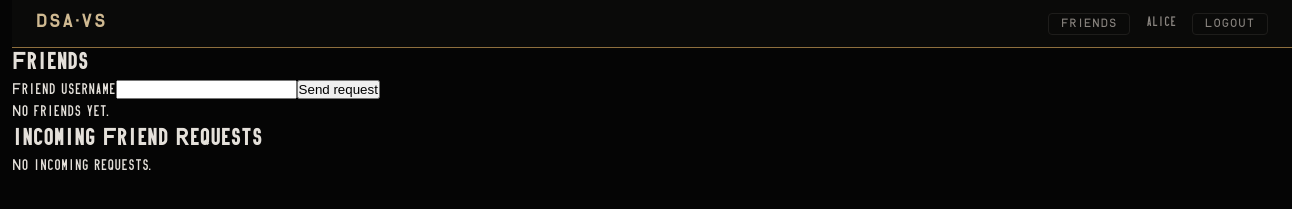
Scenario: friends › sends friend request
The width and height of the screenshot is (1292, 209).
Step 1. Type "bob" into the field labelled "Friend username" → (206, 90), box [116, 80, 297, 99]
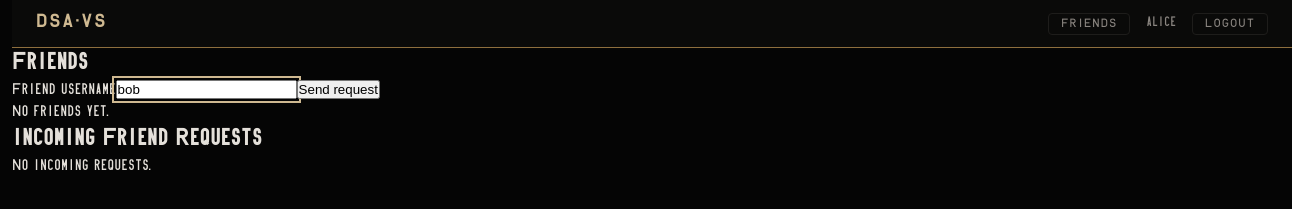
Step 2. Click the button "Send request" → (338, 90), box [297, 80, 380, 99]
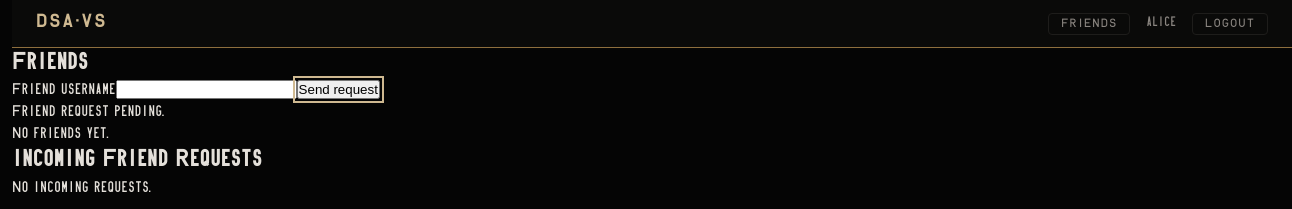
Expected: the text "Friend request pending." is shown, [12, 106, 164, 119]
